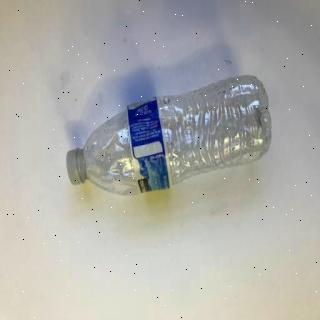Plastic-bottle: (64, 72, 276, 203)
